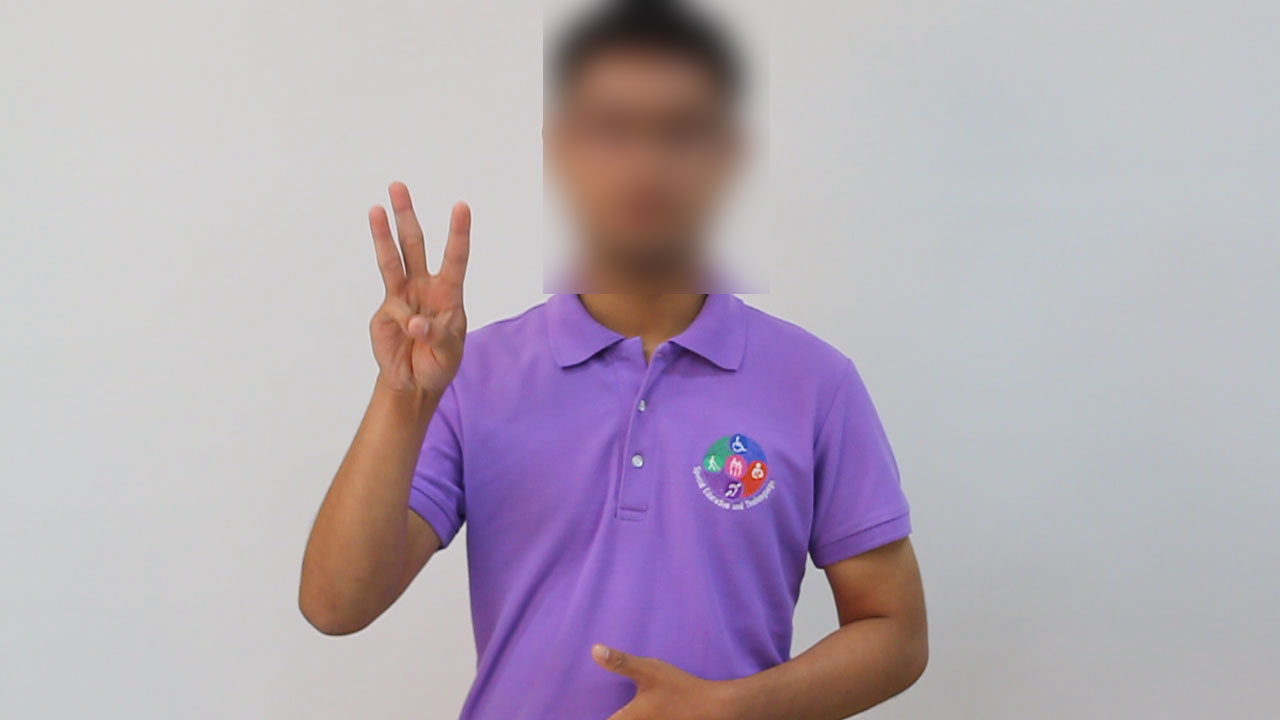wor: (357, 174, 481, 406)
